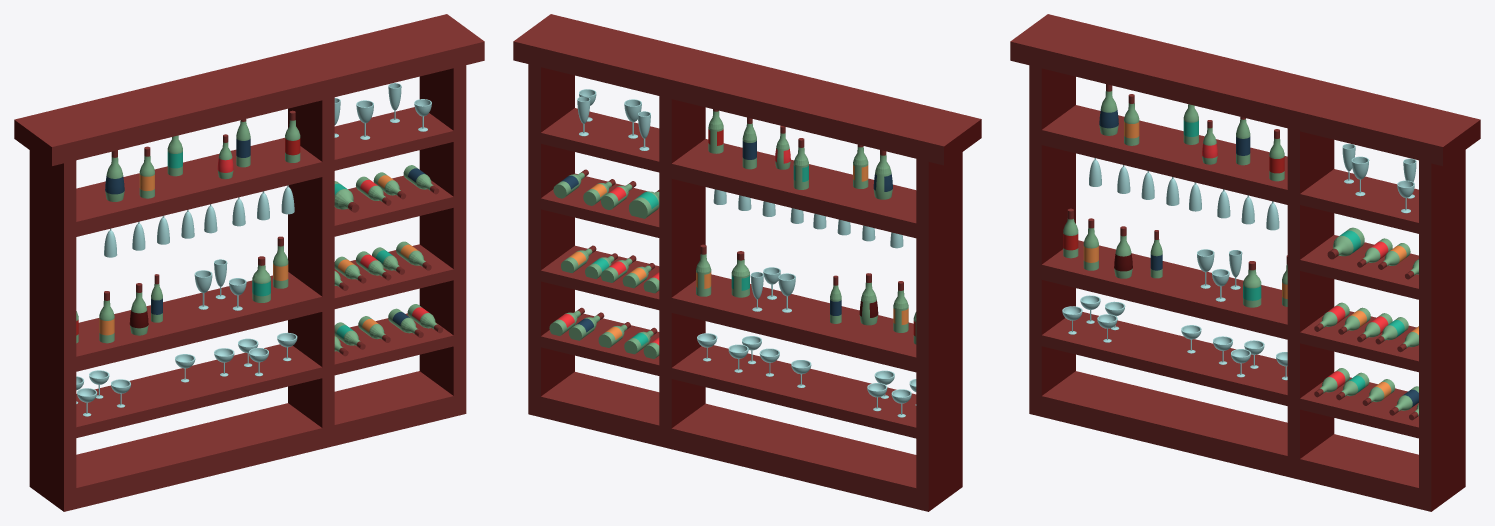
The model's file is bar_shelf.fbx.
3 renders of one model, left to right at view 1: azimuth 30°, elevation 25°; view 2: azimuth 150°, elevation 25°; view 3: azimuth 330°, elevation 25°, orthographic.
Visible parts, largest first — view 1: bar_shelf; view 2: bar_shelf; view 3: bar_shelf.
Part boxes in pixels (bbox=[...]): bar_shelf: bbox=[14, 14, 484, 511]; bar_shelf: bbox=[513, 14, 981, 511]; bar_shelf: bbox=[1010, 14, 1480, 511].
Bounding box in the file's own units: 14.82 × 12.14 × 2.23.
